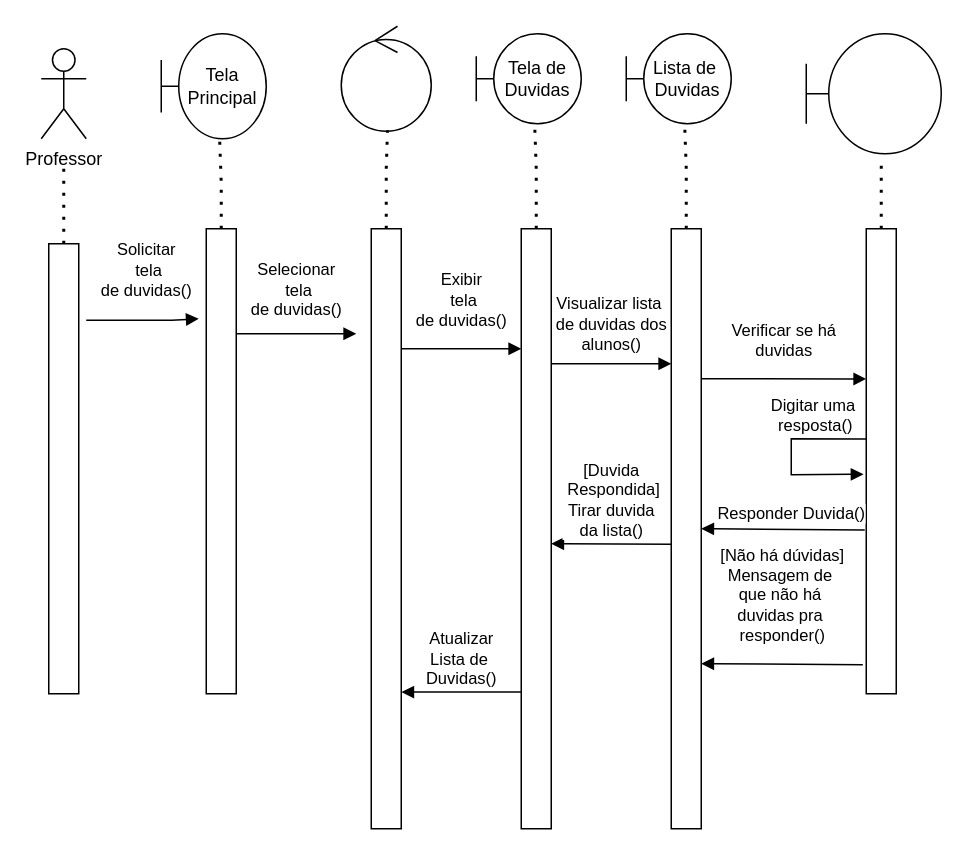
This 968x855 diagram has some shape labels left out. Here are the shapes that lost their labels. From the top down, the box of each, then its label:
(340, 25, 431, 131): Controle de Duvidas
(805, 32, 941, 154): Plataforma de Professores
